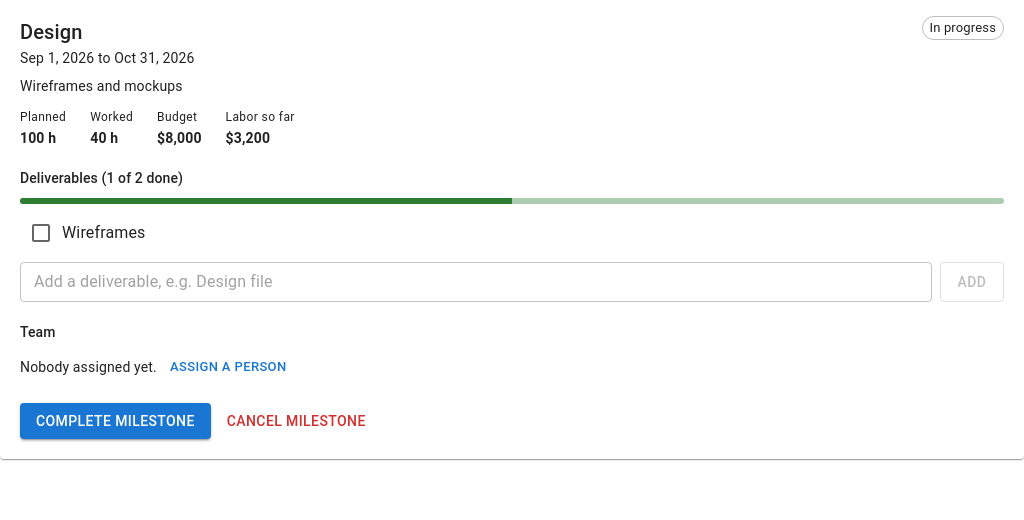
Test case: MilestoneCard: deliverables › adds a deliverable, clears the box and shows the new item
The width and height of the screenshot is (1024, 520).
Check: the button "Add" is disabled, box [940,262,1004,302]
Type "  Style guide  " into the field named "New deliverable" at (476, 282), box [20,262,932,302]
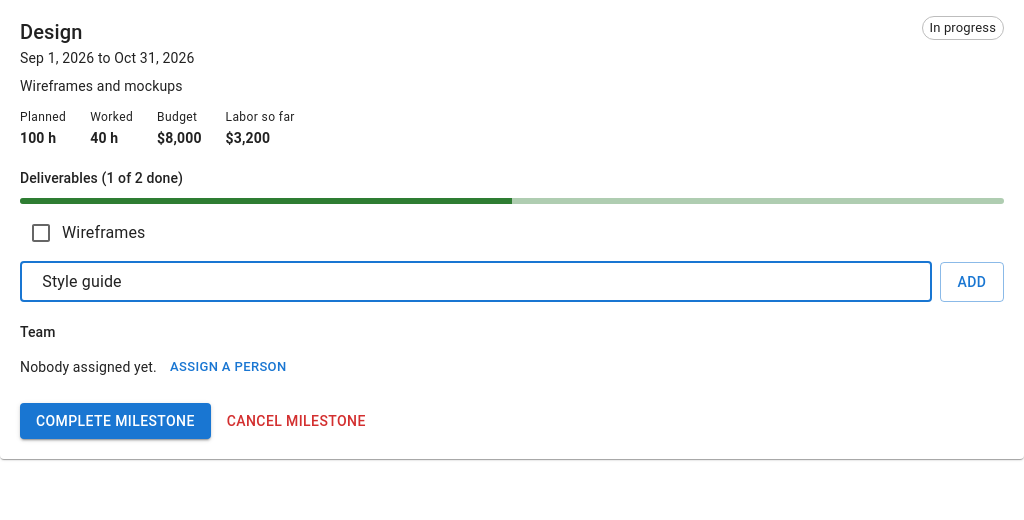
Check: the button "Add" is enabled
Click the button "Add" at (972, 282), box [940,262,1004,302]
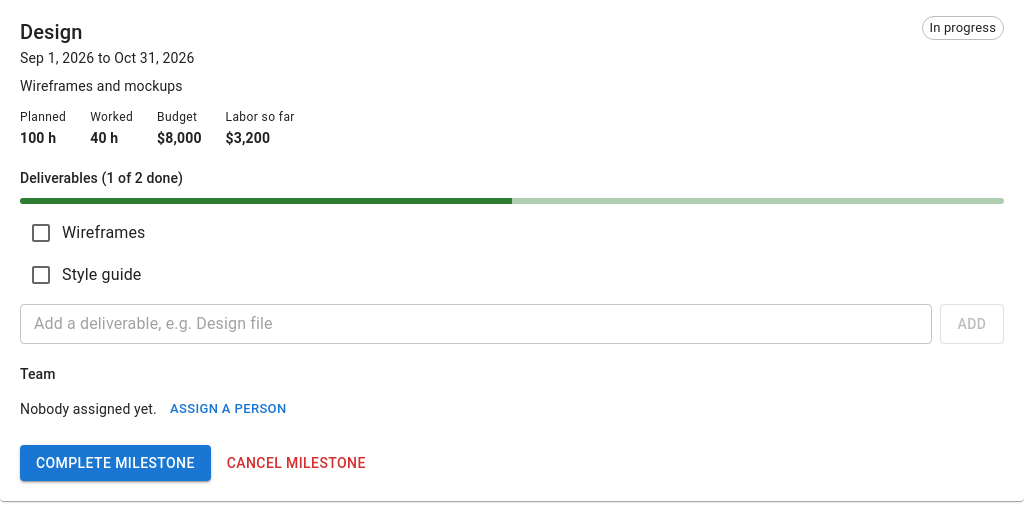
Check: the checkbox labelled "Style guide" is shown, box [29,263,142,287]
Check: the field named "New deliverable" is empty, box [20,304,932,344]
